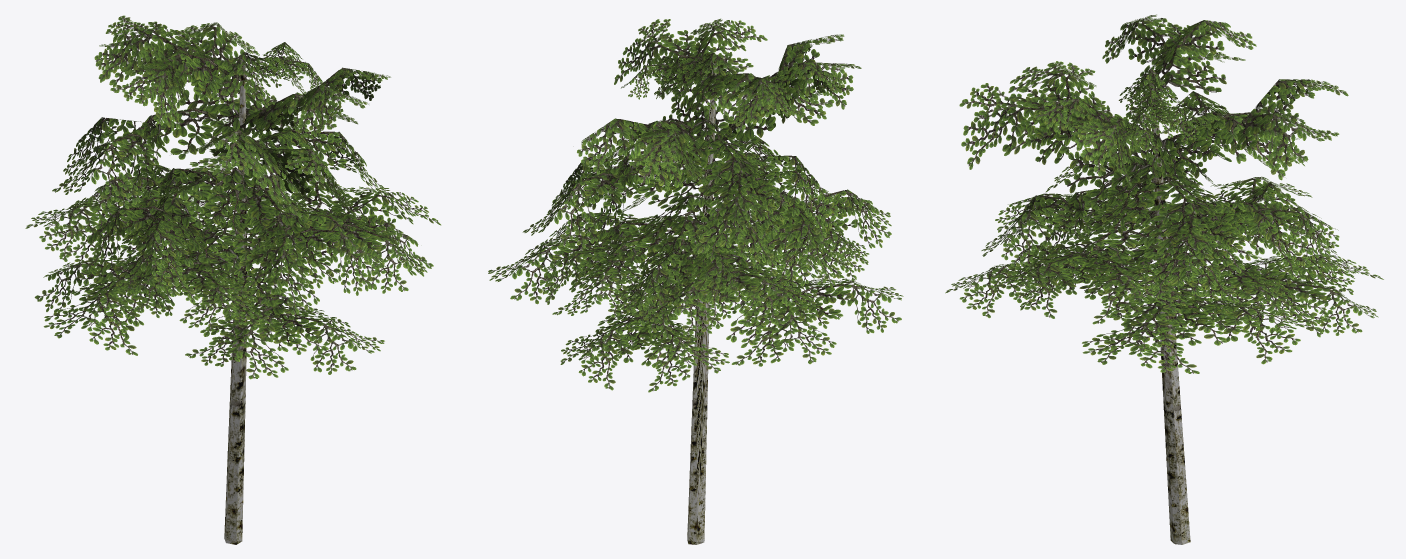
File: deciduous_15.glb
3 renders of one model, left to right at view 1: azimuth 30°, elevation 25°; view 2: azimuth 150°, elevation 25°; view 3: azimuth 270°, elevation 25°, orthographic. The views are drawn at different scales.
Parts seen in each view (by area): view 1: deciduous_15; view 2: deciduous_15; view 3: deciduous_15.
Boxes of the visible parts, <box> form: deciduous_15: <box>25,15,441,544</box>; deciduous_15: <box>488,18,903,544</box>; deciduous_15: <box>945,14,1383,544</box>.
Bounding box in the file's own units: 10.56 × 13.4 × 11.48.
Materials: 1 (1 with a texture image).
